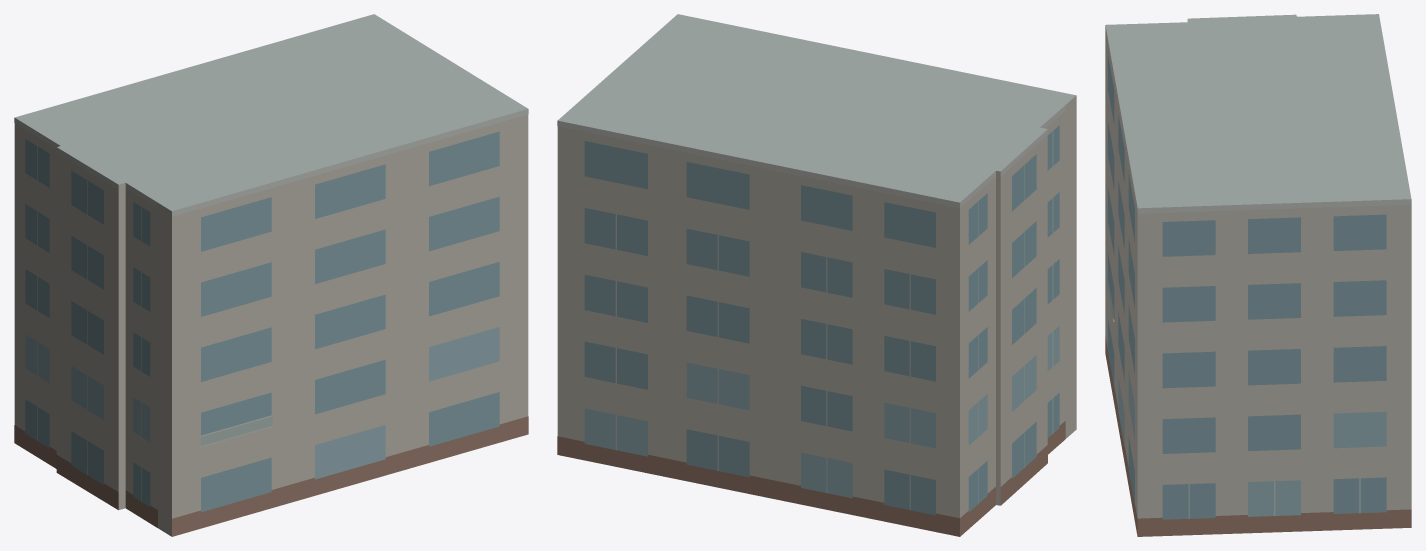
File: survey-upis-33004919.glb
3 renders of one model, left to right at view 1: azimuth 30°, elevation 25°; view 2: azimuth 150°, elevation 25°; view 3: azimuth 270°, elevation 25°, orthographic. The views are drawn at different scales.
Parts seen in each view (by area): view 1: survey-upis-33004919.tmp; view 2: survey-upis-33004919.tmp; view 3: survey-upis-33004919.tmp.
Part boxes in pixels (x1=…): survey-upis-33004919.tmp: x1=14, y1=14, x2=528, y2=536; survey-upis-33004919.tmp: x1=557, y1=14, x2=1076, y2=536; survey-upis-33004919.tmp: x1=1105, y1=14, x2=1411, y2=536.
Size of the model in its own units: 18.39 by 14.5 by 12.25.
